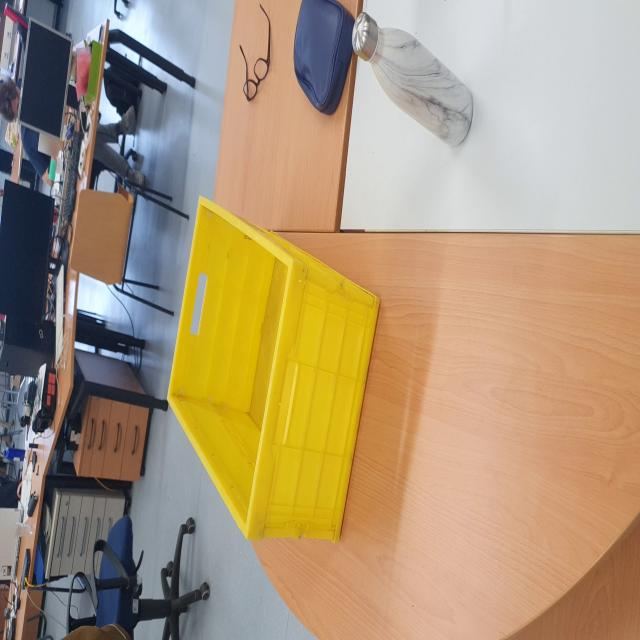box: (160, 174, 384, 569)
